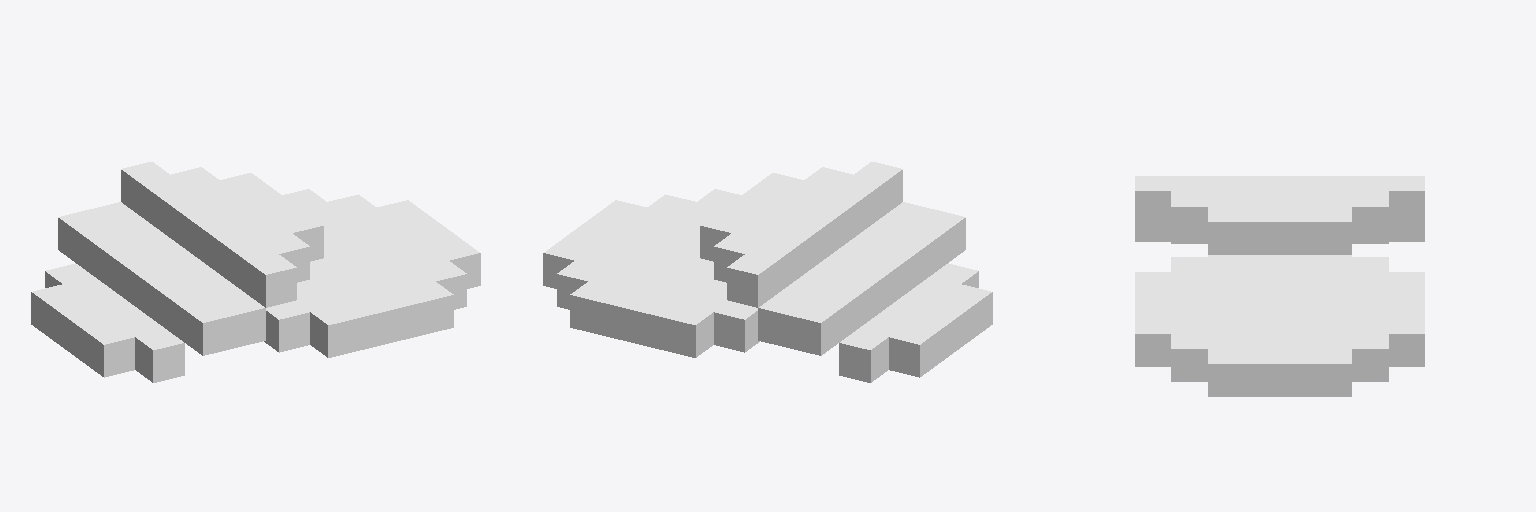
The model's file is 1_Sliced.obj.
3 views of the same model, side by side, from view 1: azimuth 30°, elevation 25°; view 2: azimuth 150°, elevation 25°; view 3: azimuth 270°, elevation 25° (orthographic).
Parts seen in each view (by area): view 1: object 1; view 2: object 1; view 3: object 1.
Boxes of the visible parts, box(x1,y1,x2,y2) form: object 1: box(31, 162, 480, 382); object 1: box(543, 162, 992, 382); object 1: box(1135, 176, 1424, 396).
Size of the model in its own units: 1.2 by 0.3 by 0.8.